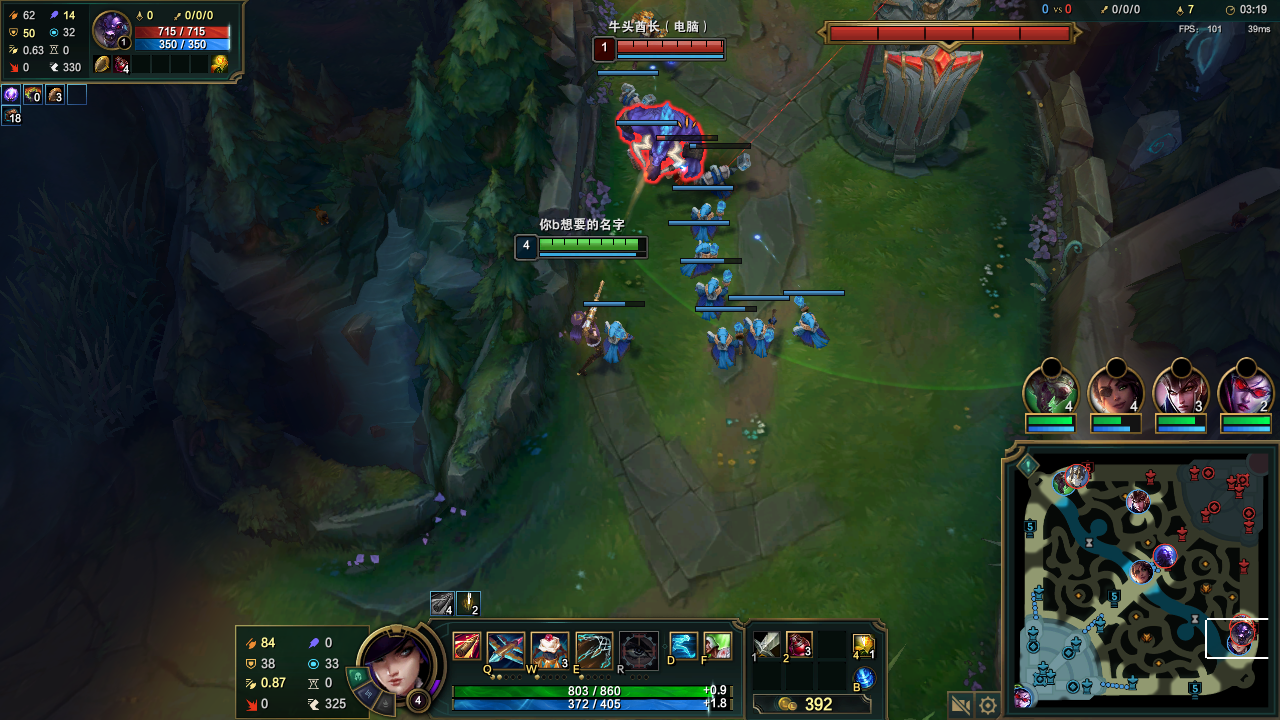DFFYT: (841, 8, 983, 154)
DFYX: (619, 41, 719, 51)
WFXB: (790, 313, 827, 348), (684, 244, 721, 273), (742, 320, 771, 355), (690, 202, 722, 233), (605, 325, 638, 354), (709, 328, 734, 362), (702, 165, 730, 192), (699, 286, 724, 313), (620, 91, 645, 106)
Yita: (1187, 675, 1204, 696)
